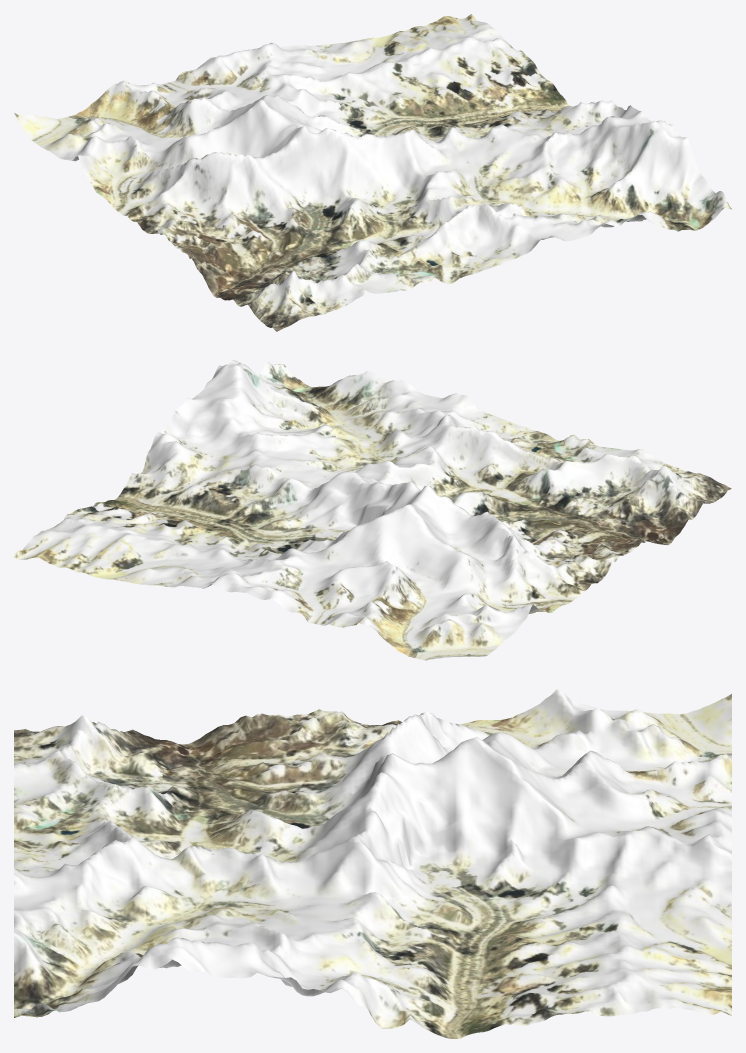
File: nature_everest_dem_s2.glb
The picture shows the model from 3 angles, top to bottom: view 1: azimuth 30°, elevation 25°; view 2: azimuth 150°, elevation 25°; view 3: azimuth 270°, elevation 25°; orthographic projection. The views are drawn at different scales.
Parts seen in each view (by area): view 1: R99_DEM_GLB_nature_everest; view 2: R99_DEM_GLB_nature_everest; view 3: R99_DEM_GLB_nature_everest.
Boxes of the visible parts, x1,y1,x2,y2 form: R99_DEM_GLB_nature_everest: (14, 14, 731, 331); R99_DEM_GLB_nature_everest: (14, 360, 731, 660); R99_DEM_GLB_nature_everest: (14, 689, 731, 1038).
Size of the model in its own units: 10.8 by 1.83 by 10.8.
Materials: 1 (1 with a texture image).
